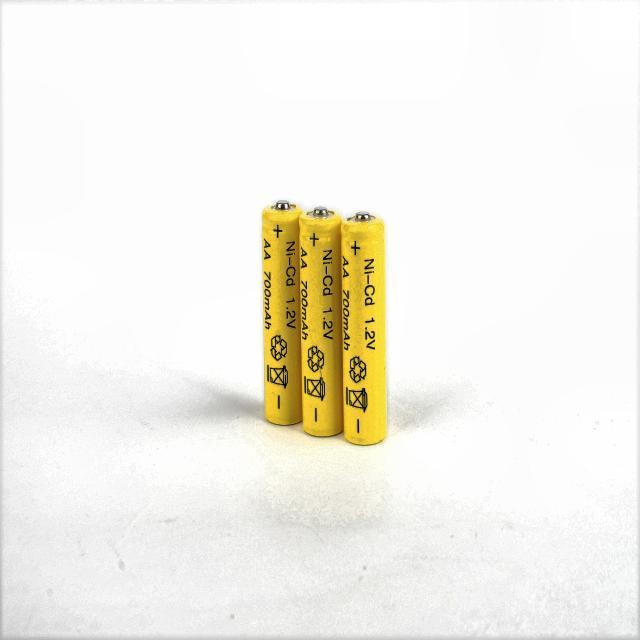battery: (341, 214, 386, 444), (300, 210, 342, 437), (262, 202, 302, 426)
